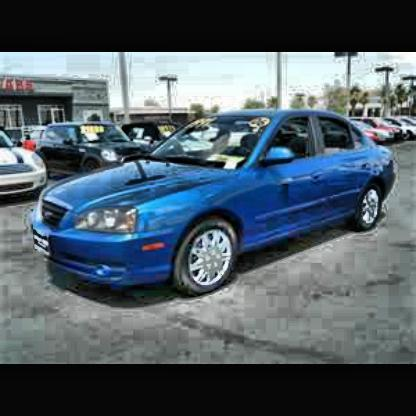Hyundai Elantra Sedan 2007: (27, 108, 404, 304)
